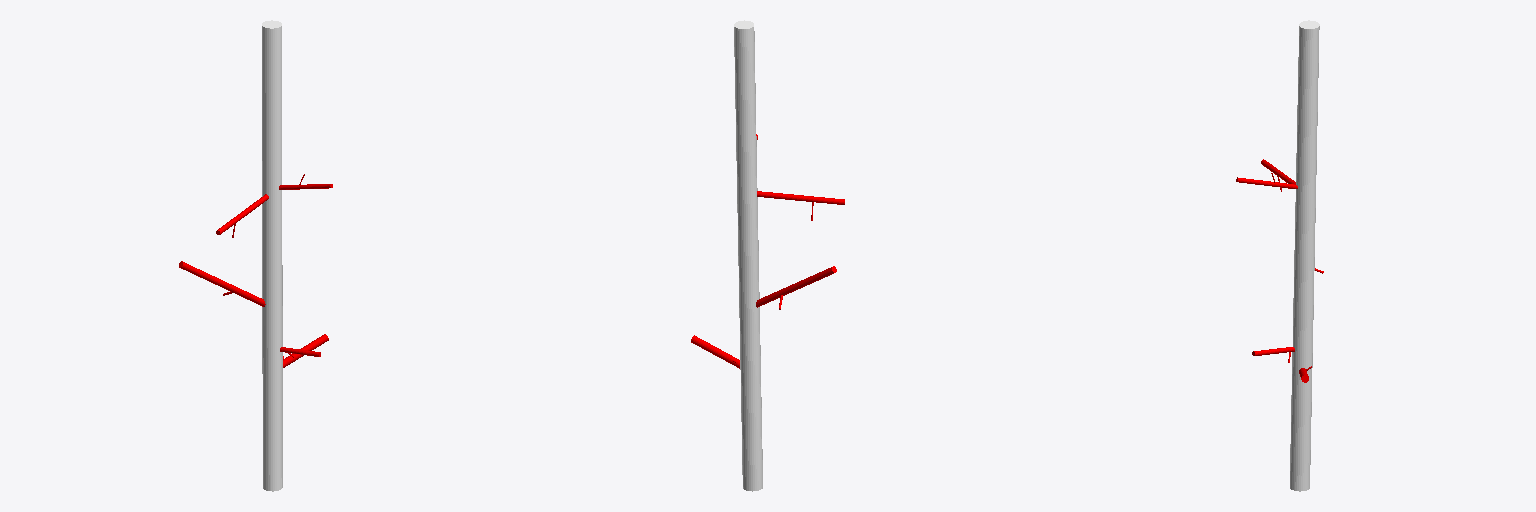
The robot description file, URDF, robot "tree_77.urdf":
<?xml version='1.0' encoding='UTF-8'?>
<robot name="tree_77.urdf">
  <link name="branch_0">
    <inertial>
      <origin xyz="0.0 0.0 0.0" rpy="0.0 -0.0 0.0"/>
      <mass value="0.1"/>
      <inertia ixx="0.001" ixy="0.0" ixz="0.0" iyy="0.001" iyz="0.0" izz="0.001"/>
    </inertial>
    <visual name="branch_0_visual">
      <geometry>
        <cylinder radius="0.16423547790885323" length="8.222728124191601"/>
      </geometry>
      <material name="branch_material"/>
      <origin xyz="0.03765160281567935 0.07669233325435638 4.110476261203597" rpy="-3.469446951953614e-18 0.02078201405035002 1.1144201283235433"/>
    </visual>
    <collision name="branch_0_collision">
      <geometry>
        <cylinder radius="0.16423547790885323" length="8.222728124191601"/>
      </geometry>
      <origin xyz="0.03765160281567935 0.07669233325435638 4.110476261203597" rpy="-3.469446951953614e-18 0.02078201405035002 1.1144201283235433"/>
    </collision>
  </link>
  <link name="branch_1">
    <inertial>
      <origin xyz="0.0 0.0 0.0" rpy="0.0 -0.0 0.0"/>
      <mass value="0.1"/>
      <inertia ixx="0.001" ixy="0.0" ixz="0.0" iyy="0.001" iyz="0.0" izz="0.001"/>
    </inertial>
    <visual name="branch_1_visual">
      <geometry>
        <cylinder radius="0.0465889431932278" length="1.5721295002019344"/>
      </geometry>
      <material name="semantic_material"/>
      <origin xyz="0.0 0.0 0.0" rpy="0.0 -0.0 0.0"/>
    </visual>
    <collision name="branch_1_collision">
      <geometry>
        <cylinder radius="0.0465889431932278" length="1.5721295002019344"/>
      </geometry>
      <origin xyz="0.0 0.0 0.0" rpy="0.0 -0.0 0.0"/>
    </collision>
  </link>
  <link name="branch_2">
    <inertial>
      <origin xyz="0.0 0.0 0.0" rpy="0.0 -0.0 0.0"/>
      <mass value="0.1"/>
      <inertia ixx="0.001" ixy="0.0" ixz="0.0" iyy="0.001" iyz="0.0" izz="0.001"/>
    </inertial>
    <visual name="branch_2_visual">
      <geometry>
        <cylinder radius="0.011586840525112711" length="0.35624001588662835"/>
      </geometry>
      <material name="semantic_material"/>
      <origin xyz="0.0 0.0 0.0" rpy="0.0 -0.0 0.0"/>
    </visual>
    <collision name="branch_2_collision">
      <geometry>
        <cylinder radius="0.011586840525112711" length="0.35624001588662835"/>
      </geometry>
      <origin xyz="0.0 0.0 0.0" rpy="0.0 -0.0 0.0"/>
    </collision>
  </link>
  <link name="branch_3">
    <inertial>
      <origin xyz="0.0 0.0 0.0" rpy="0.0 -0.0 0.0"/>
      <mass value="0.1"/>
      <inertia ixx="0.001" ixy="0.0" ixz="0.0" iyy="0.001" iyz="0.0" izz="0.001"/>
    </inertial>
    <visual name="branch_3_visual">
      <geometry>
        <cylinder radius="0.05596546814461404" length="1.983530606827684"/>
      </geometry>
      <material name="semantic_material"/>
      <origin xyz="0.0 0.0 0.0" rpy="0.0 -0.0 0.0"/>
    </visual>
    <collision name="branch_3_collision">
      <geometry>
        <cylinder radius="0.05596546814461404" length="1.983530606827684"/>
      </geometry>
      <origin xyz="0.0 0.0 0.0" rpy="0.0 -0.0 0.0"/>
    </collision>
  </link>
  <link name="branch_4">
    <inertial>
      <origin xyz="0.0 0.0 0.0" rpy="0.0 -0.0 0.0"/>
      <mass value="0.1"/>
      <inertia ixx="0.001" ixy="0.0" ixz="0.0" iyy="0.001" iyz="0.0" izz="0.001"/>
    </inertial>
    <visual name="branch_4_visual">
      <geometry>
        <cylinder radius="0.019190692843025388" length="0.324996200508827"/>
      </geometry>
      <material name="semantic_material"/>
      <origin xyz="0.0 0.0 0.0" rpy="0.0 -0.0 0.0"/>
    </visual>
    <collision name="branch_4_collision">
      <geometry>
        <cylinder radius="0.019190692843025388" length="0.324996200508827"/>
      </geometry>
      <origin xyz="0.0 0.0 0.0" rpy="0.0 -0.0 0.0"/>
    </collision>
  </link>
  <link name="branch_5">
    <inertial>
      <origin xyz="0.0 0.0 0.0" rpy="0.0 -0.0 0.0"/>
      <mass value="0.1"/>
      <inertia ixx="0.001" ixy="0.0" ixz="0.0" iyy="0.001" iyz="0.0" izz="0.001"/>
    </inertial>
    <visual name="branch_5_visual">
      <geometry>
        <cylinder radius="0.06232585354928339" length="1.0959128504937665"/>
      </geometry>
      <material name="semantic_material"/>
      <origin xyz="0.0 0.0 0.0" rpy="0.0 -0.0 0.0"/>
    </visual>
    <collision name="branch_5_collision">
      <geometry>
        <cylinder radius="0.06232585354928339" length="1.0959128504937665"/>
      </geometry>
      <origin xyz="0.0 0.0 0.0" rpy="0.0 -0.0 0.0"/>
    </collision>
  </link>
  <link name="branch_6">
    <inertial>
      <origin xyz="0.0 0.0 0.0" rpy="0.0 -0.0 0.0"/>
      <mass value="0.1"/>
      <inertia ixx="0.001" ixy="0.0" ixz="0.0" iyy="0.001" iyz="0.0" izz="0.001"/>
    </inertial>
    <visual name="branch_6_visual">
      <geometry>
        <cylinder radius="0.013711387548315794" length="0.17510133677736708"/>
      </geometry>
      <material name="semantic_material"/>
      <origin xyz="0.0 0.0 0.0" rpy="0.0 -0.0 0.0"/>
    </visual>
    <collision name="branch_6_collision">
      <geometry>
        <cylinder radius="0.013711387548315794" length="0.17510133677736708"/>
      </geometry>
      <origin xyz="0.0 0.0 0.0" rpy="0.0 -0.0 0.0"/>
    </collision>
  </link>
  <link name="branch_7">
    <inertial>
      <origin xyz="0.0 0.0 0.0" rpy="0.0 -0.0 0.0"/>
      <mass value="0.1"/>
      <inertia ixx="0.001" ixy="0.0" ixz="0.0" iyy="0.001" iyz="0.0" izz="0.001"/>
    </inertial>
    <visual name="branch_7_visual">
      <geometry>
        <cylinder radius="0.03887473430010353" length="1.2582094722179562"/>
      </geometry>
      <material name="semantic_material"/>
      <origin xyz="0.0 0.0 0.0" rpy="0.0 -0.0 0.0"/>
    </visual>
    <collision name="branch_7_collision">
      <geometry>
        <cylinder radius="0.03887473430010353" length="1.2582094722179562"/>
      </geometry>
      <origin xyz="0.0 0.0 0.0" rpy="0.0 -0.0 0.0"/>
    </collision>
  </link>
  <link name="branch_8">
    <inertial>
      <origin xyz="0.0 0.0 0.0" rpy="0.0 -0.0 0.0"/>
      <mass value="0.1"/>
      <inertia ixx="0.001" ixy="0.0" ixz="0.0" iyy="0.001" iyz="0.0" izz="0.001"/>
    </inertial>
    <visual name="branch_8_visual">
      <geometry>
        <cylinder radius="0.01" length="0.25579432304994754"/>
      </geometry>
      <material name="semantic_material"/>
      <origin xyz="0.0 0.0 0.0" rpy="0.0 -0.0 0.0"/>
    </visual>
    <collision name="branch_8_collision">
      <geometry>
        <cylinder radius="0.01" length="0.25579432304994754"/>
      </geometry>
      <origin xyz="0.0 0.0 0.0" rpy="0.0 -0.0 0.0"/>
    </collision>
  </link>
  <link name="branch_9">
    <inertial>
      <origin xyz="0.0 0.0 0.0" rpy="0.0 -0.0 0.0"/>
      <mass value="0.1"/>
      <inertia ixx="0.001" ixy="0.0" ixz="0.0" iyy="0.001" iyz="0.0" izz="0.001"/>
    </inertial>
    <visual name="branch_9_visual">
      <geometry>
        <cylinder radius="0.04090986860045048" length="0.9041915332551432"/>
      </geometry>
      <material name="semantic_material"/>
      <origin xyz="0.0 0.0 0.0" rpy="0.0 -0.0 0.0"/>
    </visual>
    <collision name="branch_9_collision">
      <geometry>
        <cylinder radius="0.04090986860045048" length="0.9041915332551432"/>
      </geometry>
      <origin xyz="0.0 0.0 0.0" rpy="0.0 -0.0 0.0"/>
    </collision>
  </link>
  <link name="branch_10">
    <inertial>
      <origin xyz="0.0 0.0 0.0" rpy="0.0 -0.0 0.0"/>
      <mass value="0.1"/>
      <inertia ixx="0.001" ixy="0.0" ixz="0.0" iyy="0.001" iyz="0.0" izz="0.001"/>
    </inertial>
    <visual name="branch_10_visual">
      <geometry>
        <cylinder radius="0.013756725136634698" length="0.2277979376234558"/>
      </geometry>
      <material name="semantic_material"/>
      <origin xyz="0.0 0.0 0.0" rpy="0.0 -0.0 0.0"/>
    </visual>
    <collision name="branch_10_collision">
      <geometry>
        <cylinder radius="0.013756725136634698" length="0.2277979376234558"/>
      </geometry>
      <origin xyz="0.0 0.0 0.0" rpy="0.0 -0.0 0.0"/>
    </collision>
  </link>
  <joint name="joint_0_1" type="fixed">
    <parent link="branch_0"/>
    <child link="branch_1"/>
    <axis xyz="1. 0. 0."/>
    <origin xyz="-0.6577698599372903 -0.24411017622668618 5.175150229220711" rpy="2.9636446752686214 1.4983389181310294 0.2725427387472079"/>
  </joint>
  <joint name="joint_0_3" type="fixed">
    <parent link="branch_0"/>
    <child link="branch_3"/>
    <axis xyz="1. 0. 0."/>
    <origin xyz="-0.7932218064811443 0.12240869005254916 3.7478826223783805" rpy="0.03456512364274327 0.9818508674225721 3.1070050130570386"/>
  </joint>
  <joint name="joint_0_5" type="fixed">
    <parent link="branch_0"/>
    <child link="branch_5"/>
    <axis xyz="1. 0. 0."/>
    <origin xyz="0.540610105851579 0.06335307363663086 2.2434761607254528" rpy="-0.0601522993234238 1.262164950621487 -0.01600861118387013"/>
  </joint>
  <joint name="joint_0_7" type="fixed">
    <parent link="branch_0"/>
    <child link="branch_7"/>
    <axis xyz="1. 0. 0."/>
    <origin xyz="0.2886215108504467 -0.4520044996991892 5.501852408700169" rpy="-0.05347167266171067 1.2711260696638331 -1.216213328134523"/>
  </joint>
  <joint name="joint_0_9" type="fixed">
    <parent link="branch_0"/>
    <child link="branch_9"/>
    <axis xyz="1. 0. 0."/>
    <origin xyz="0.23924747581598718 -0.3475871843263161 2.5225387481700094" rpy="-0.15381051866738804 1.459645530220314 -1.2226157761629541"/>
  </joint>
  <joint name="joint_1_2" type="fixed">
    <parent link="branch_0"/>
    <child link="branch_2"/>
    <axis xyz="1. 0. 0."/>
    <origin xyz="-0.9127427813332791 -0.32830291468517725 4.981162278306315" rpy="-2.9420485965166034 -0.04873433707107892 0.45552622348867355"/>
  </joint>
  <joint name="joint_3_4" type="fixed">
    <parent link="branch_0"/>
    <child link="branch_4"/>
    <axis xyz="1. 0. 0."/>
    <origin xyz="-0.6597810065151465 0.24157315597008366 3.5465406109628743" rpy="-2.2013501302755003 0.6129031978828878 -0.03664041362191445"/>
  </joint>
  <joint name="joint_5_6" type="fixed">
    <parent link="branch_0"/>
    <child link="branch_6"/>
    <axis xyz="1. 0. 0."/>
    <origin xyz="0.2697529284574499 0.12170841566869658 2.205930816171417" rpy="0.9485433044551825 0.1546646974187439 2.9574118880601845"/>
  </joint>
  <joint name="joint_7_8" type="fixed">
    <parent link="branch_0"/>
    <child link="branch_8"/>
    <axis xyz="1. 0. 0."/>
    <origin xyz="0.2990135912166245 -0.4191789267121667 5.600624341156893" rpy="0.2184027058850009 -0.3013941987960116 1.8502649239381923"/>
  </joint>
  <joint name="joint_9_10" type="fixed">
    <parent link="branch_0"/>
    <child link="branch_10"/>
    <axis xyz="1. 0. 0."/>
    <origin xyz="0.2119834253990863 -0.1625832773512493 2.4191130183879554" rpy="2.41588879833782 0.3980017728310641 1.8279245159690711"/>
  </joint>
  <material name="branch_material">
    <color rgba="1. 1. 1. 1."/>
  </material>
  <material name="semantic_material">
    <color rgba="1. 0. 0. 1."/>
  </material>
</robot>

--- Render facts (derived) ---
3 views of the same robot in one strip: view 1: azimuth 30°, elevation 25°; view 2: azimuth 150°, elevation 25°; view 3: azimuth 270°, elevation 25° (orthographic).
Robot: tree_77.urdf — 11 links, 10 joints (10 fixed); root link branch_0; default pose: all joints at 0.
Visible links, largest first — view 1: branch_0, branch_3; view 2: branch_0, branch_3; view 3: branch_0.
Boxes of the visible links, <box> form: branch_0: <box>262,20,282,491</box>; branch_3: <box>179,261,265,306</box>; branch_0: <box>734,20,762,491</box>; branch_3: <box>756,266,836,307</box>; branch_0: <box>1290,20,1319,491</box>.
Size in the robot's own frame: 2.73 by 1.41 by 8.23 metres.
Geometry: primitives only (box / cylinder / sphere), no mesh files.